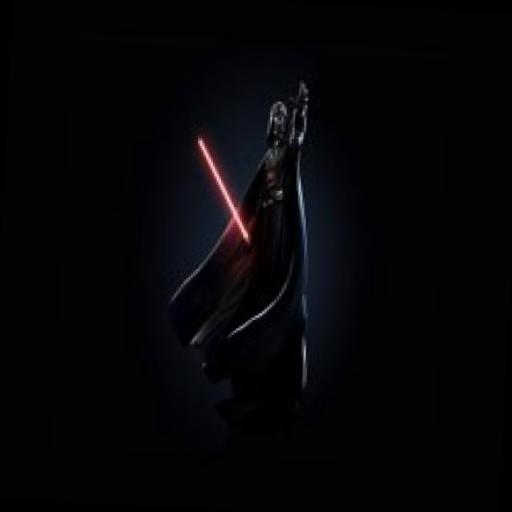sith saber: (189, 132, 263, 250)
